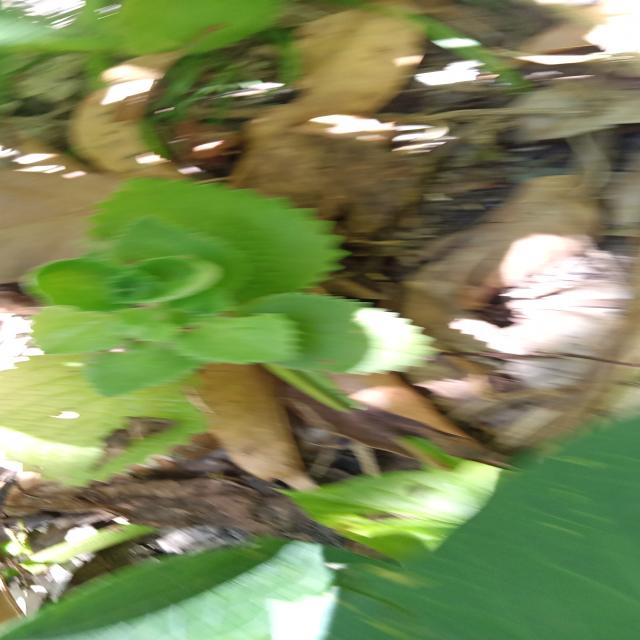Oregano: (1, 169, 452, 408)
